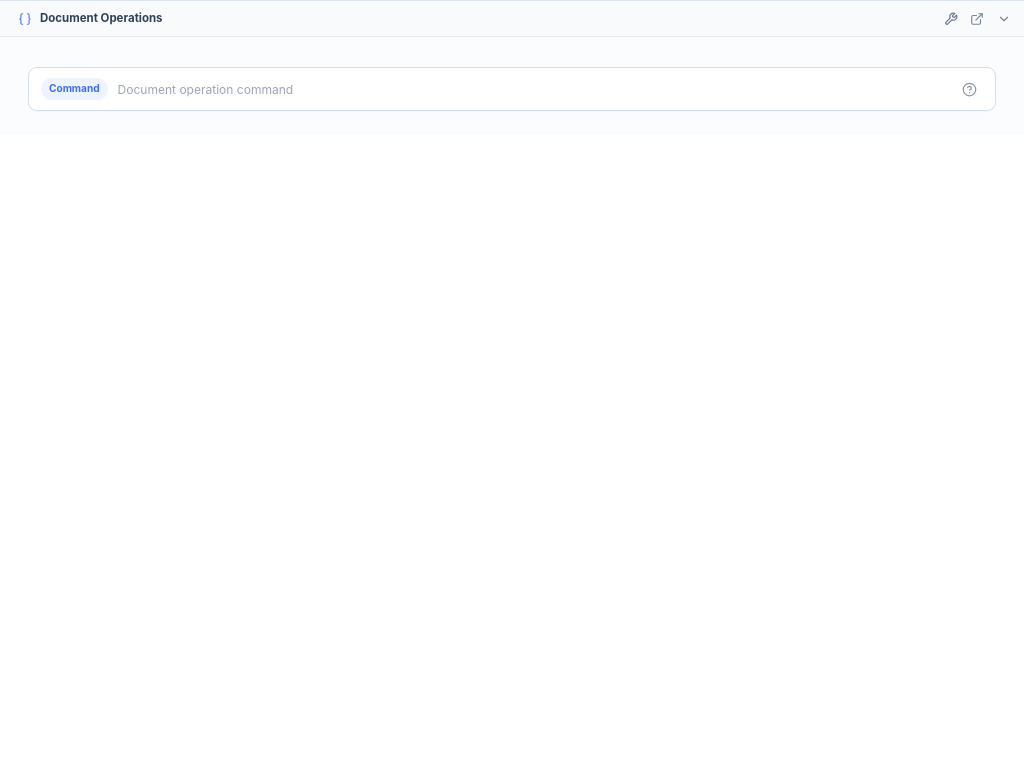
WorkbenchToolPanels › shows block-type-specific composer fields for structured block templates
Click the button named "Open operation composer": [951, 19] box top-left (938, 6), bottom-right (963, 31)
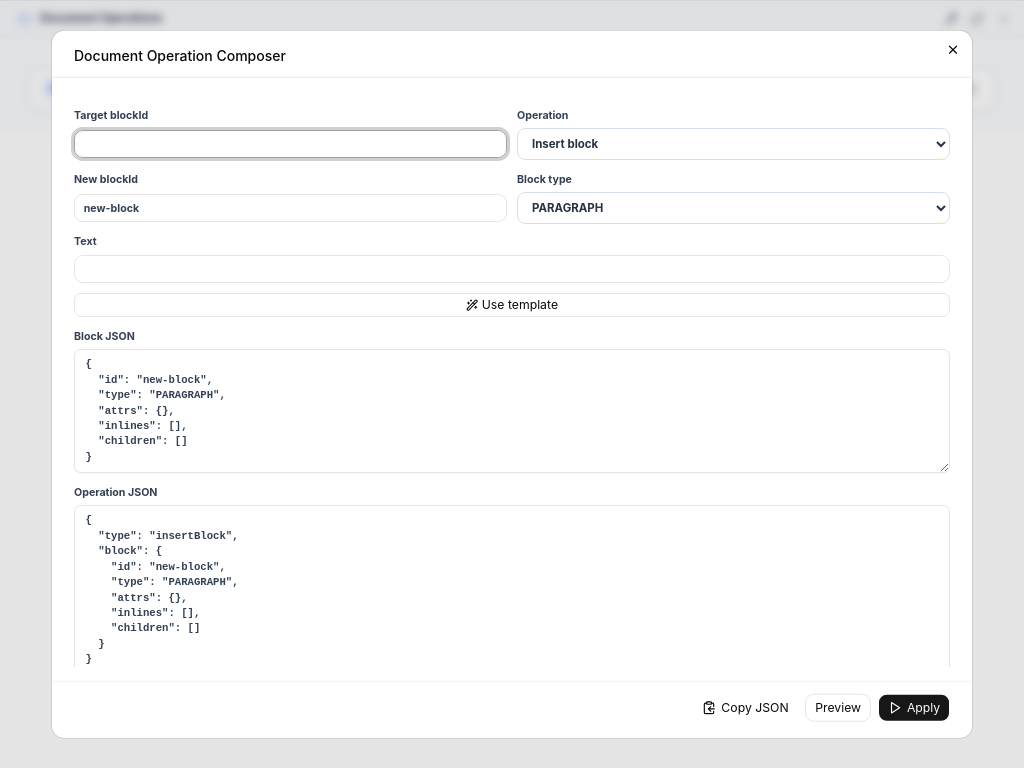
Select "TABLE" in the dropdown labelled "Block type": [734, 208] box top-left (517, 192), bottom-right (950, 224)
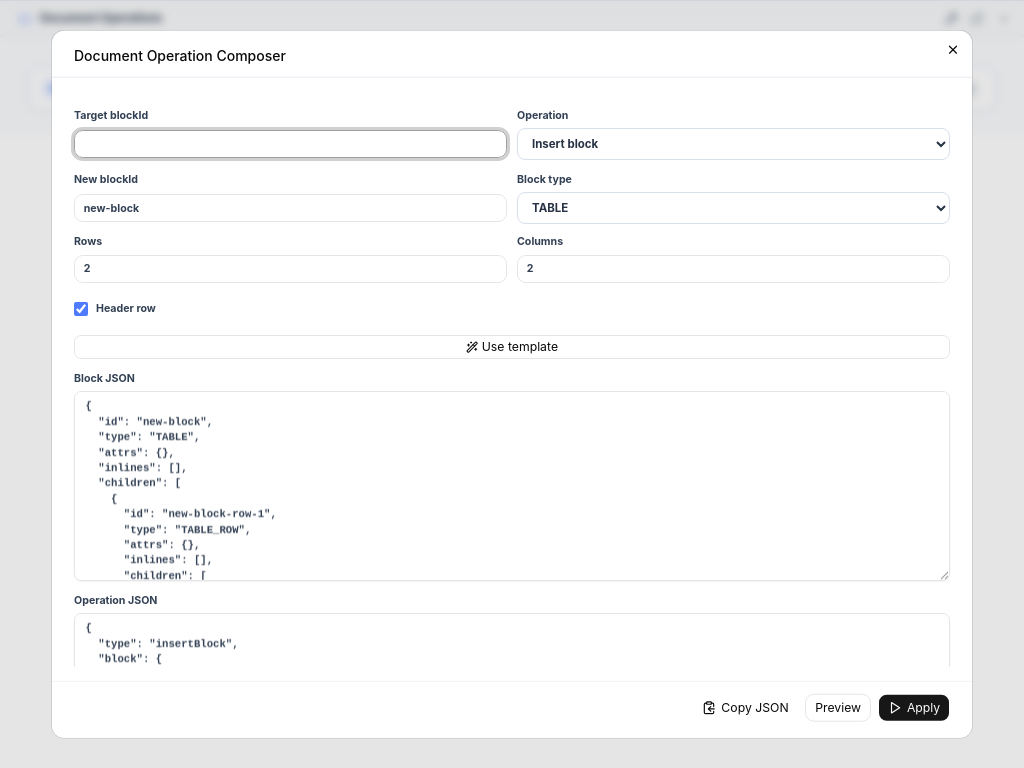
Expected: the text labelled "Text" is gone
Expected: the number field labelled "Rows" is shown
Expected: the number field labelled "Columns" is shown, top-left (517, 254), bottom-right (950, 282)
Replace the text in the number field labelled "Rows" with "3": [290, 268] box top-left (74, 254), bottom-right (507, 282)
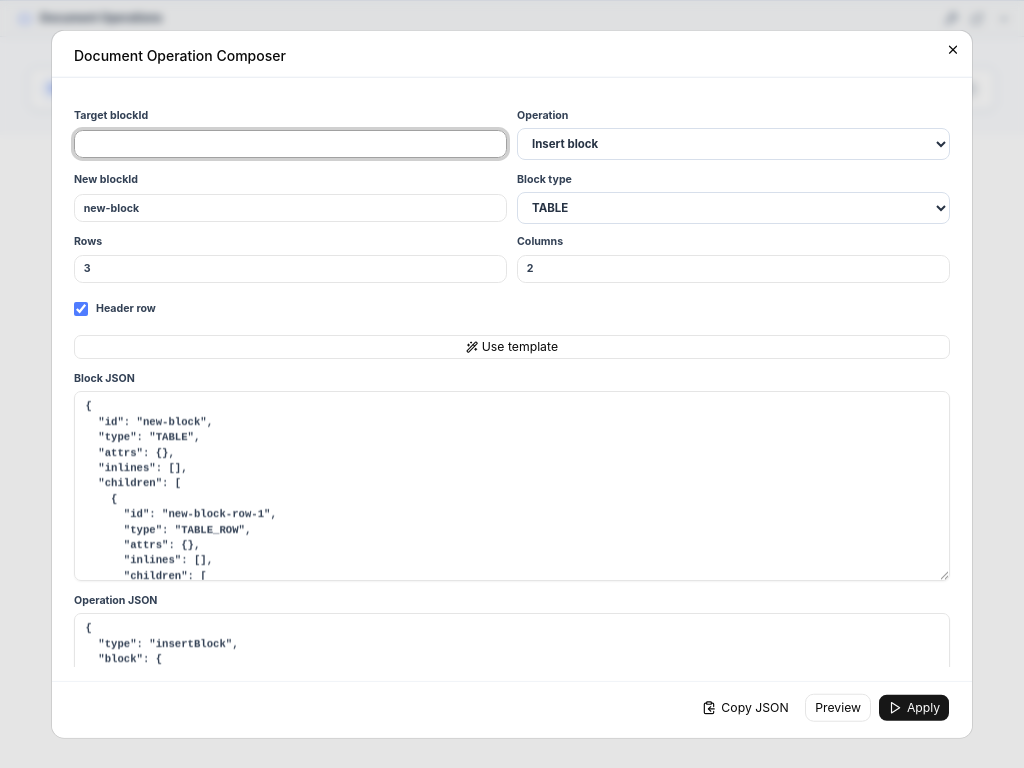
Replace the text in the number field labelled "Columns" with "3": [734, 268] box top-left (517, 254), bottom-right (950, 282)
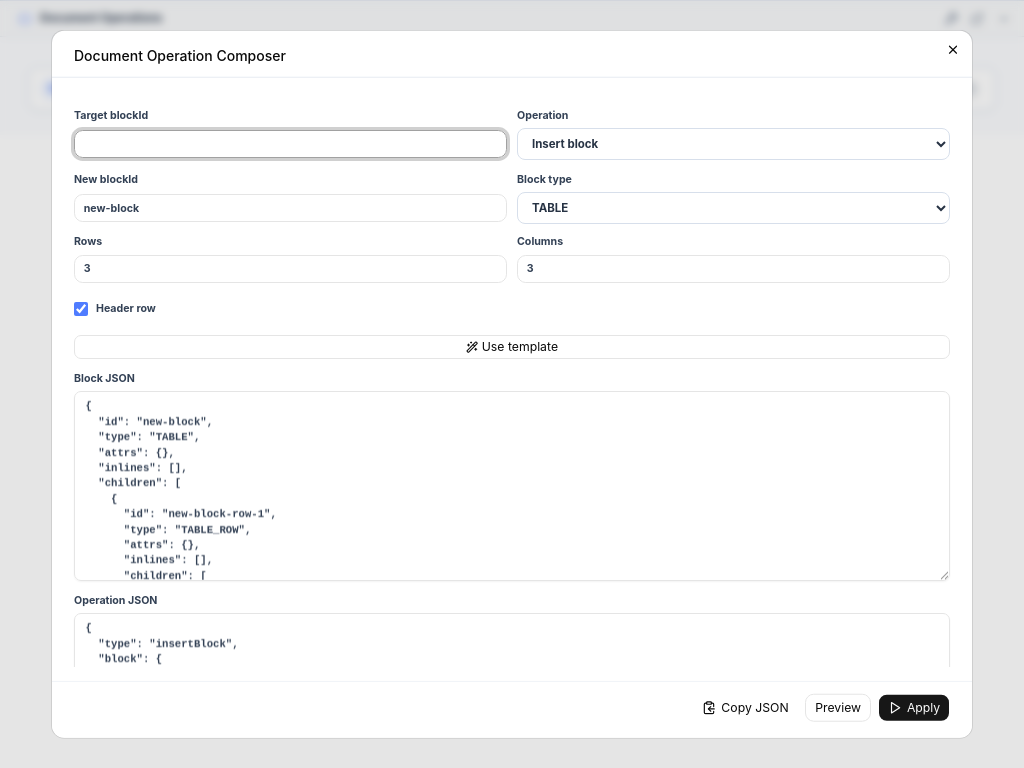
Select "CODE_BLOCK" in the dropdown labelled "Block type": [734, 208] box top-left (517, 192), bottom-right (950, 224)
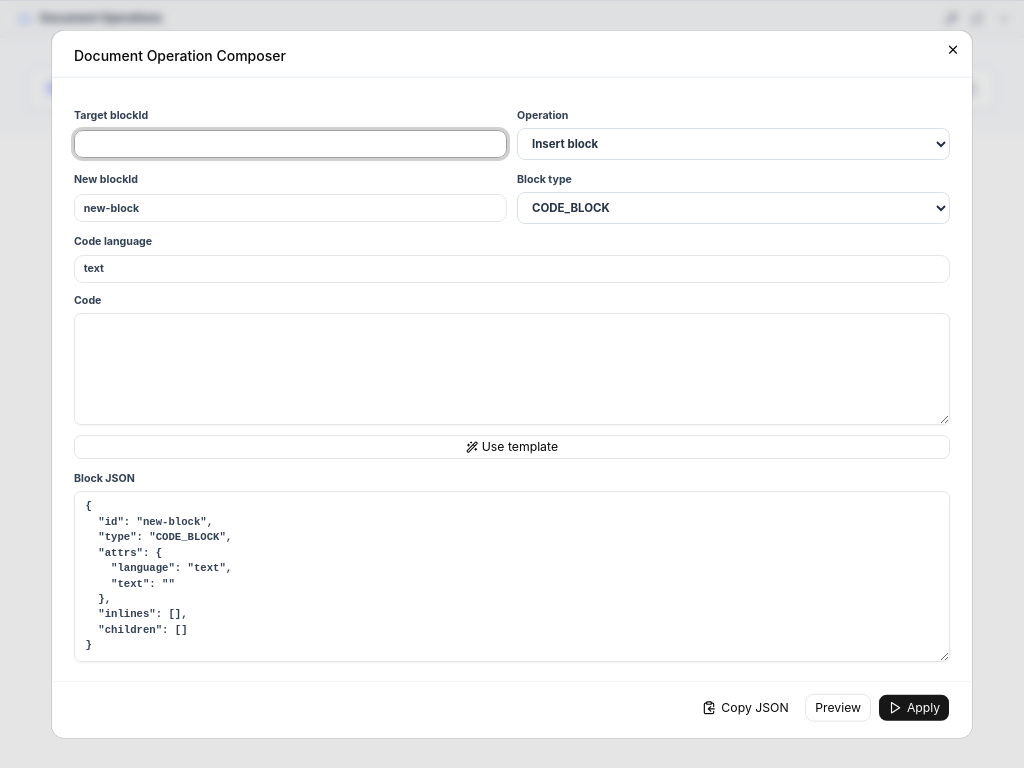
Expected: the field labelled "Code language" is shown, top-left (74, 254), bottom-right (950, 282)
Expected: the text box labelled "Code" is shown, top-left (74, 312), bottom-right (950, 424)
Expected: the text labelled "Rows" is gone
